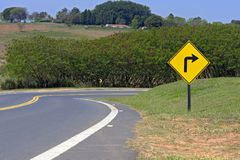right: (166, 39, 212, 86)
